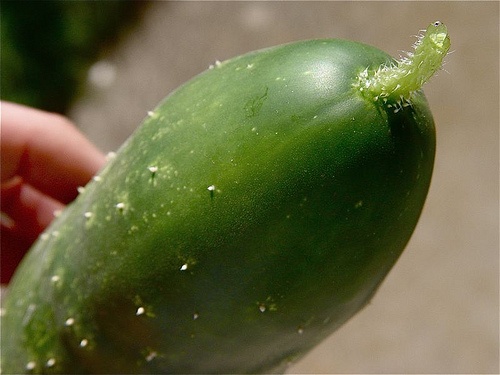cucumber: (0, 22, 451, 374)
